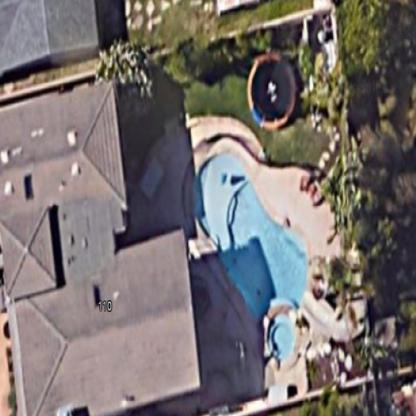pool: (185, 136, 319, 372)
